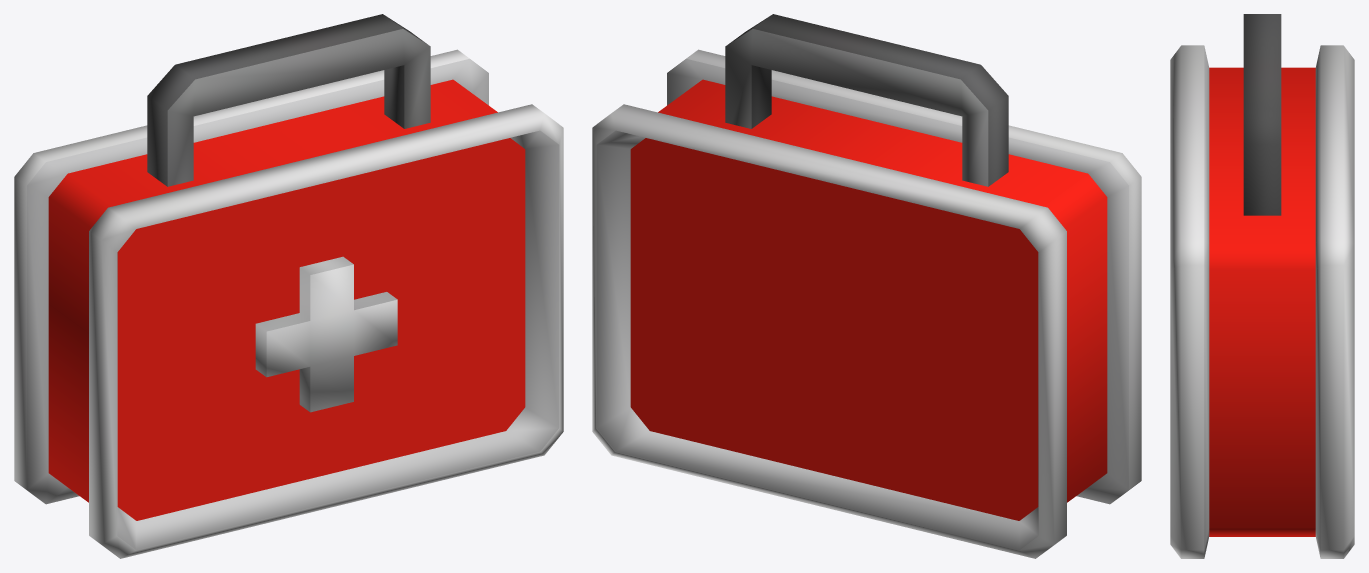
The model's file is Medkit.fbx.
The picture shows the model from 3 angles, left to right: view 1: azimuth 30°, elevation 25°; view 2: azimuth 150°, elevation 25°; view 3: azimuth 270°, elevation 25°; orthographic projection. The views are drawn at different scales.
Parts seen in each view (by area): view 1: Medkit; view 2: Medkit; view 3: Medkit.
Boxes of the visible parts, x1,y1,x2,y2 form: Medkit: [14, 14, 563, 558]; Medkit: [592, 14, 1141, 558]; Medkit: [1170, 14, 1354, 558].
Size of the model in its own units: 59.89 by 53.08 by 22.13.
